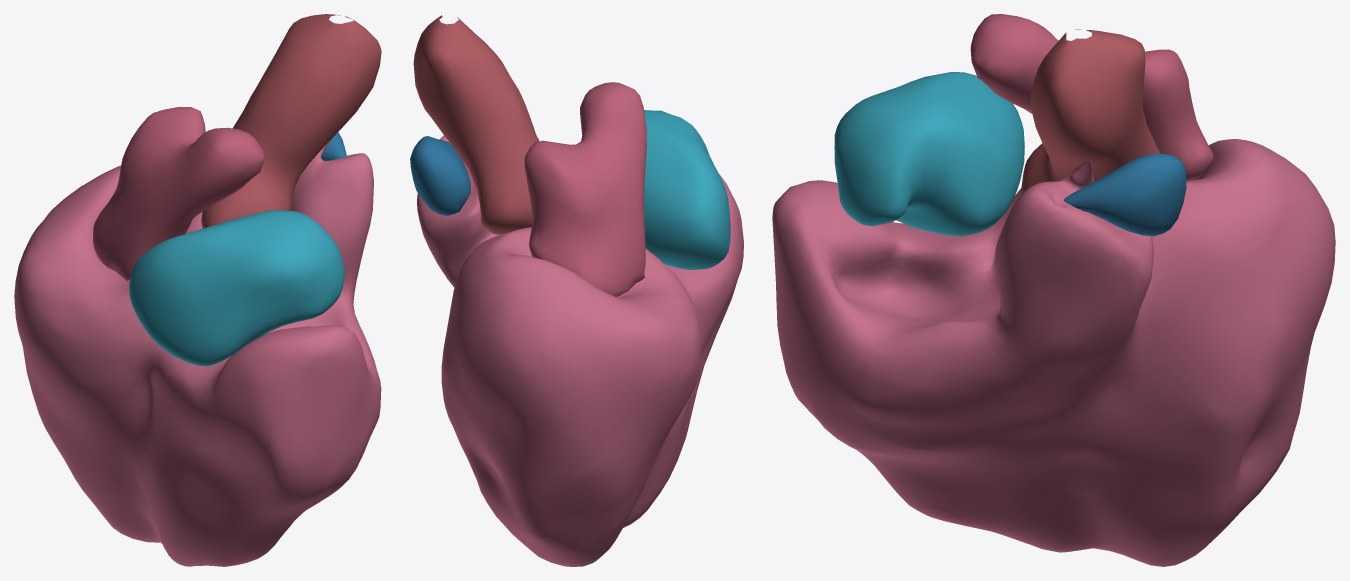
The model's file is frame_2.glb.
3 renders of one model, left to right at view 1: azimuth 30°, elevation 25°; view 2: azimuth 150°, elevation 25°; view 3: azimuth 270°, elevation 25°, orthographic. The views are drawn at different scales.
Visible parts, largest first — view 1: Renderer Node; view 2: Renderer Node; view 3: Renderer Node.
Boxes of the visible parts, x1,y1,x2,y2 form: Renderer Node: (14,14,381,566); Renderer Node: (410,15,743,566); Renderer Node: (772,14,1335,566).
Size of the model in its own units: 104 by 159 by 130.
